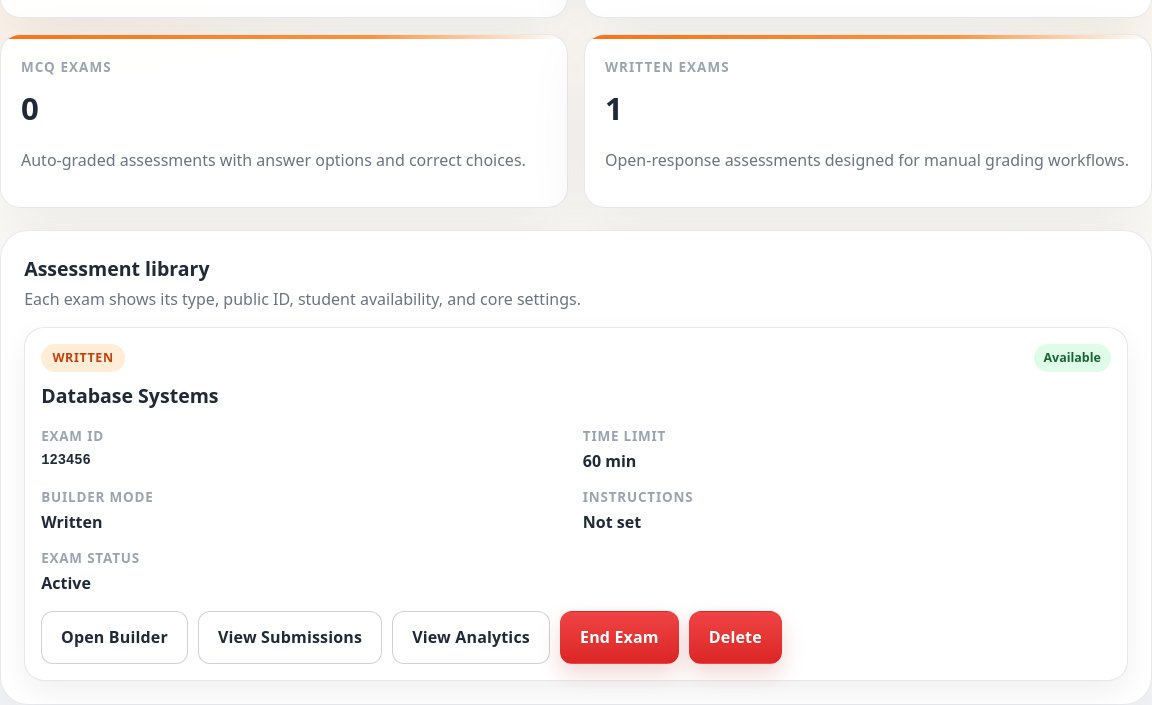
Scenario: ExamsListPage › ends an exam, disables the button while pending, and navigates to analytics
(page scrolled)
Click the button "End Exam": (619, 637) 560,611 -> 679,664
(page scrolled)
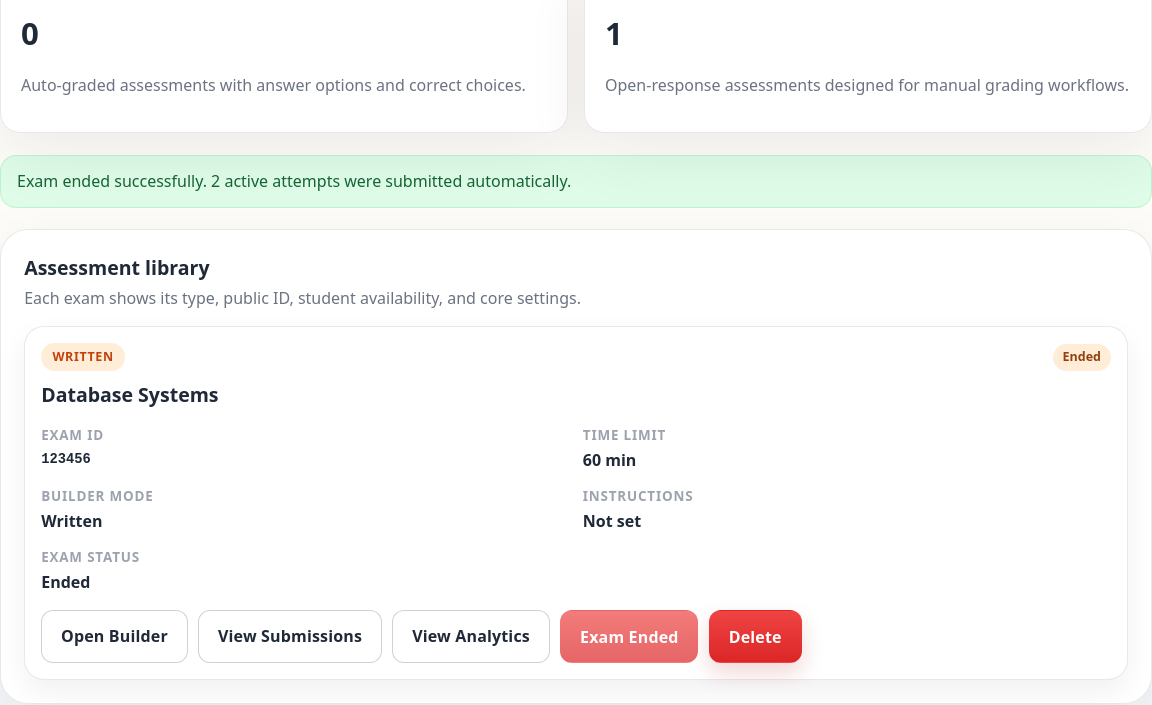
Result: the button named "Ending..." is disabled at 560,610 -> 698,663
